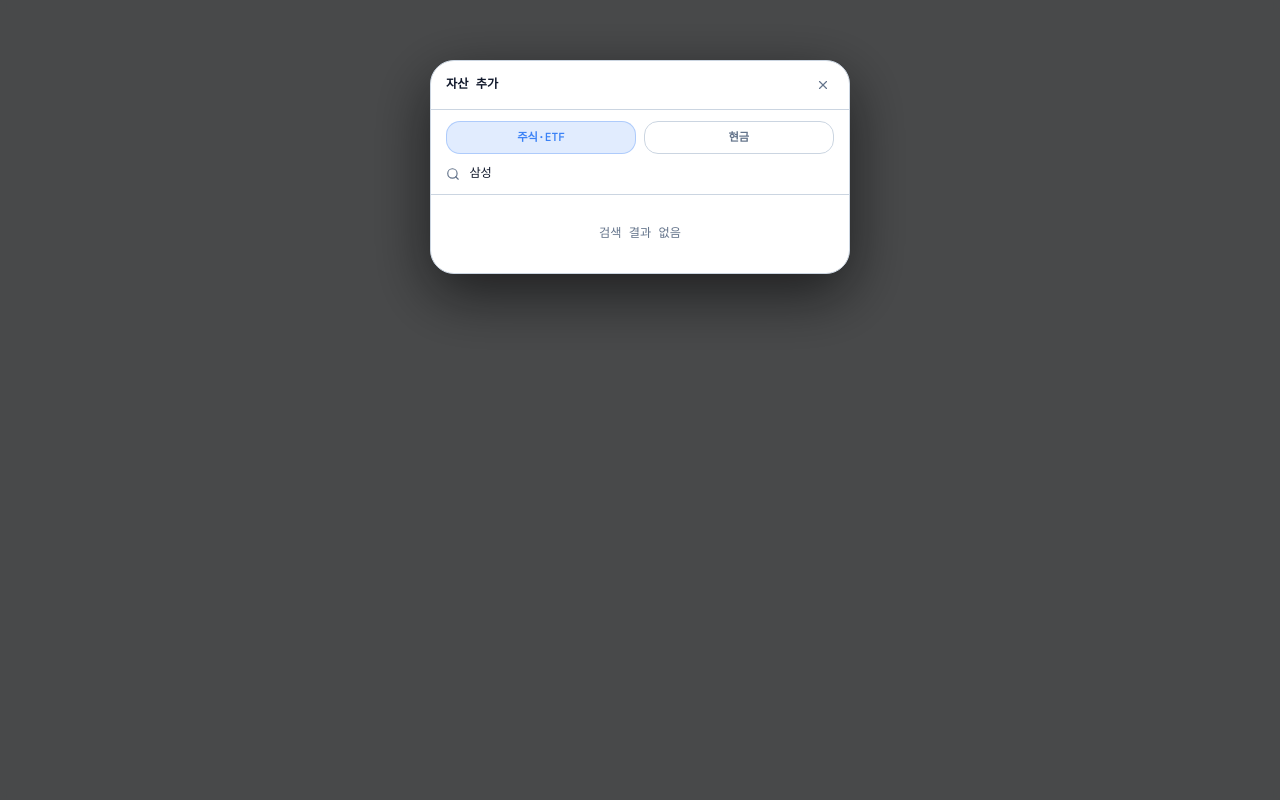
무엇을 담을지 고른다 › 현금을 고르면 검색을 건너뛰고 곧장 금액을 묻는다
The width and height of the screenshot is (1280, 800).
Click the button "현금" at (739, 137), box [644,121,834,154]
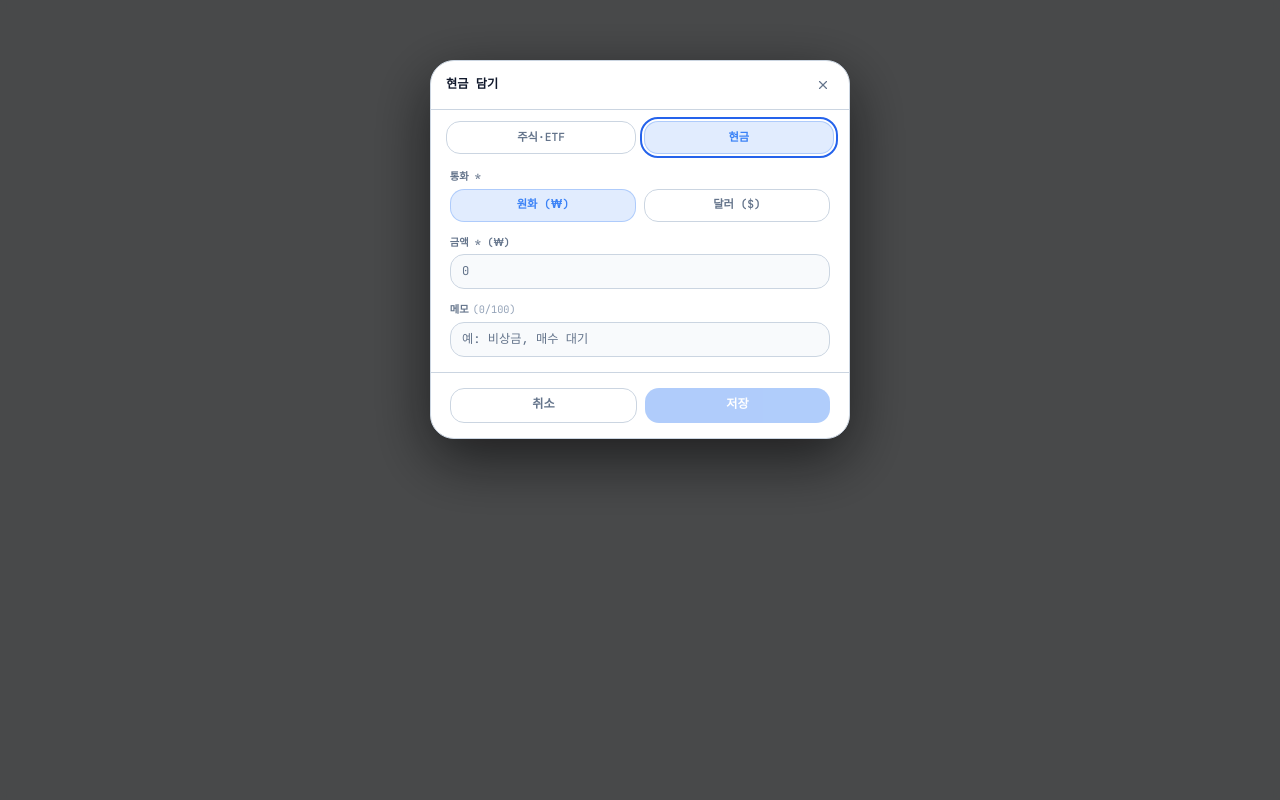
expect the text "금액 * (₩)" is shown: met, box [450,235,510,249]
